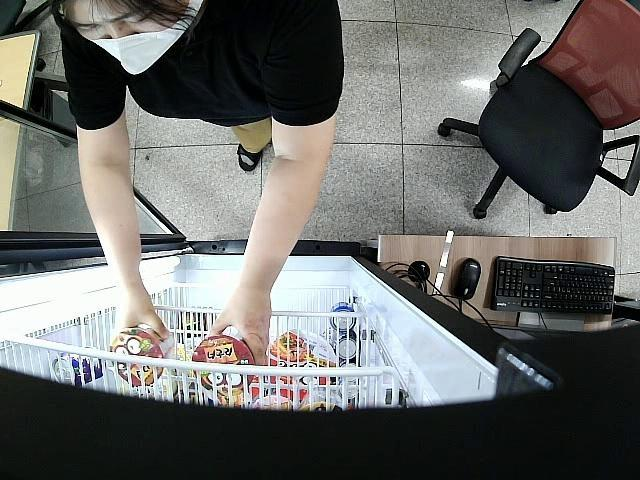06_nuguri_S: (192, 330, 254, 396), (111, 320, 173, 384)
